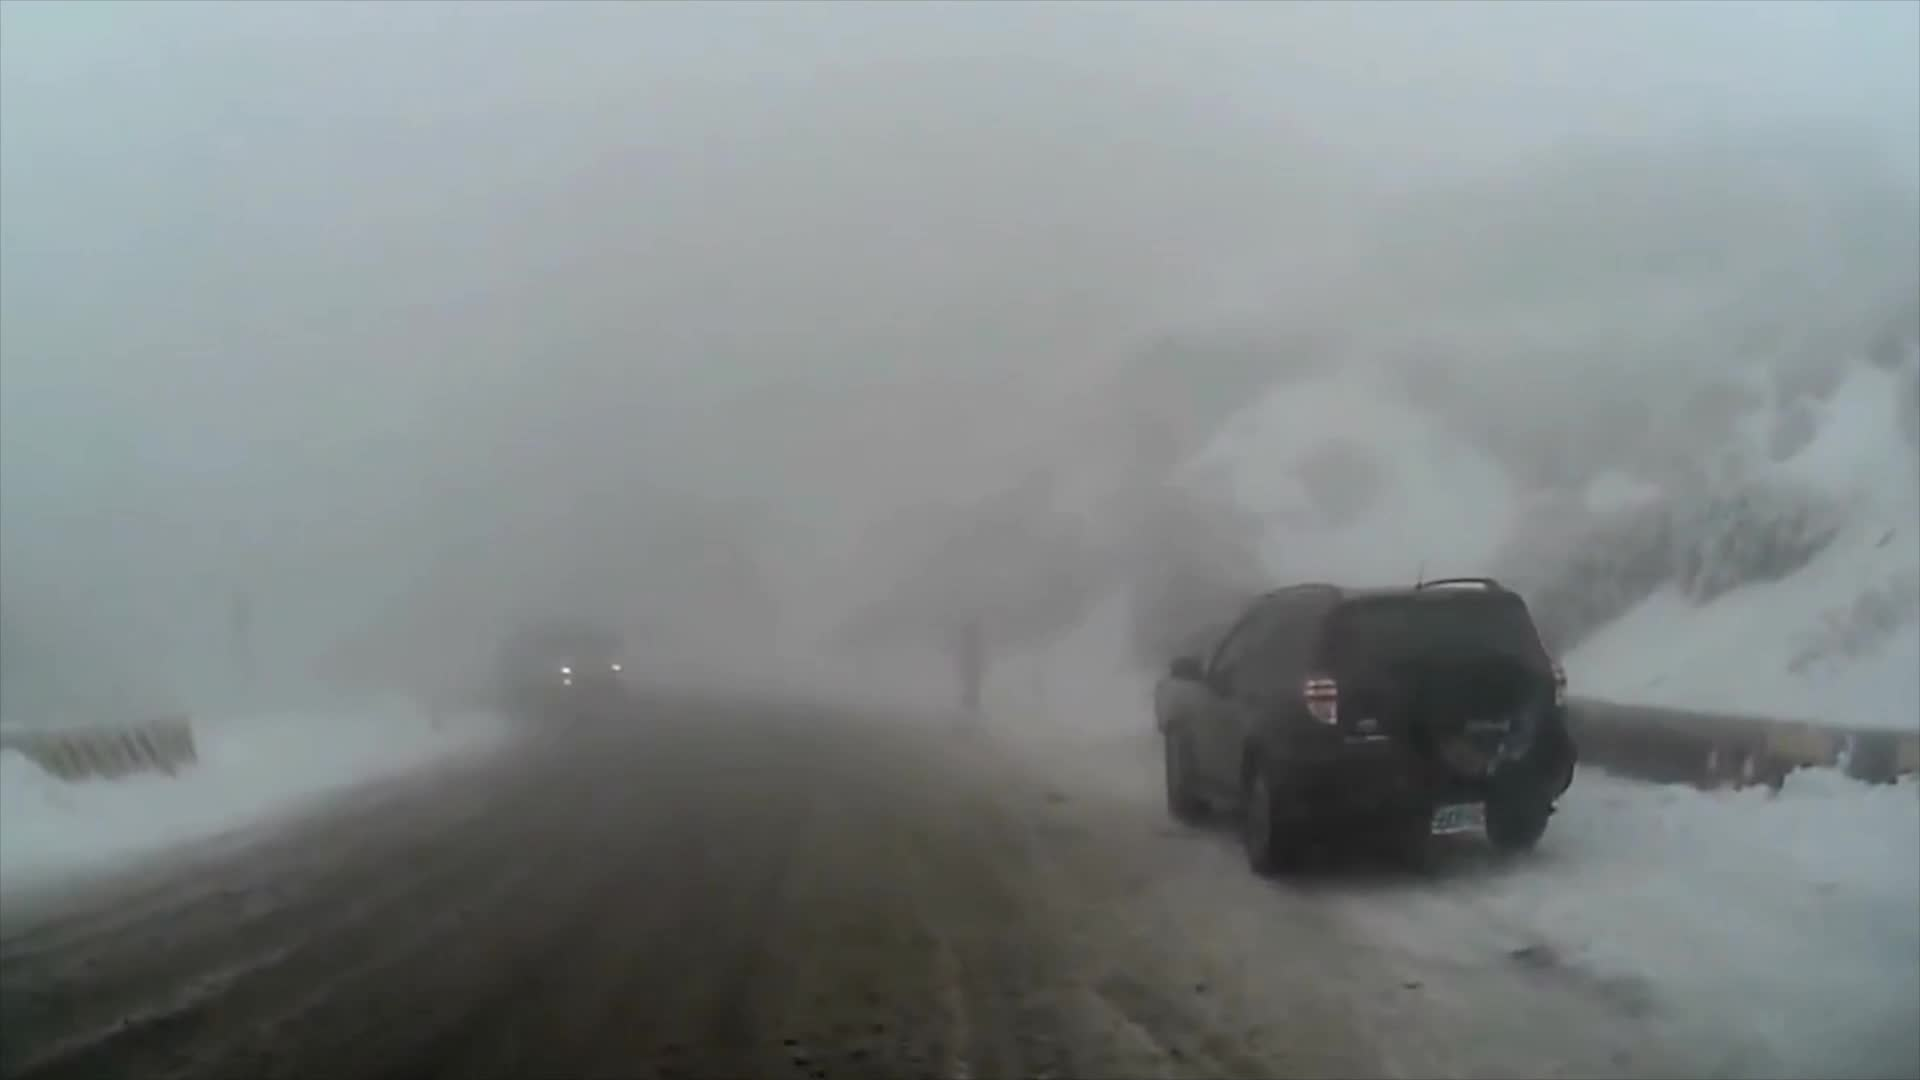vehicle: (1156, 572, 1576, 882), (491, 625, 632, 713)
